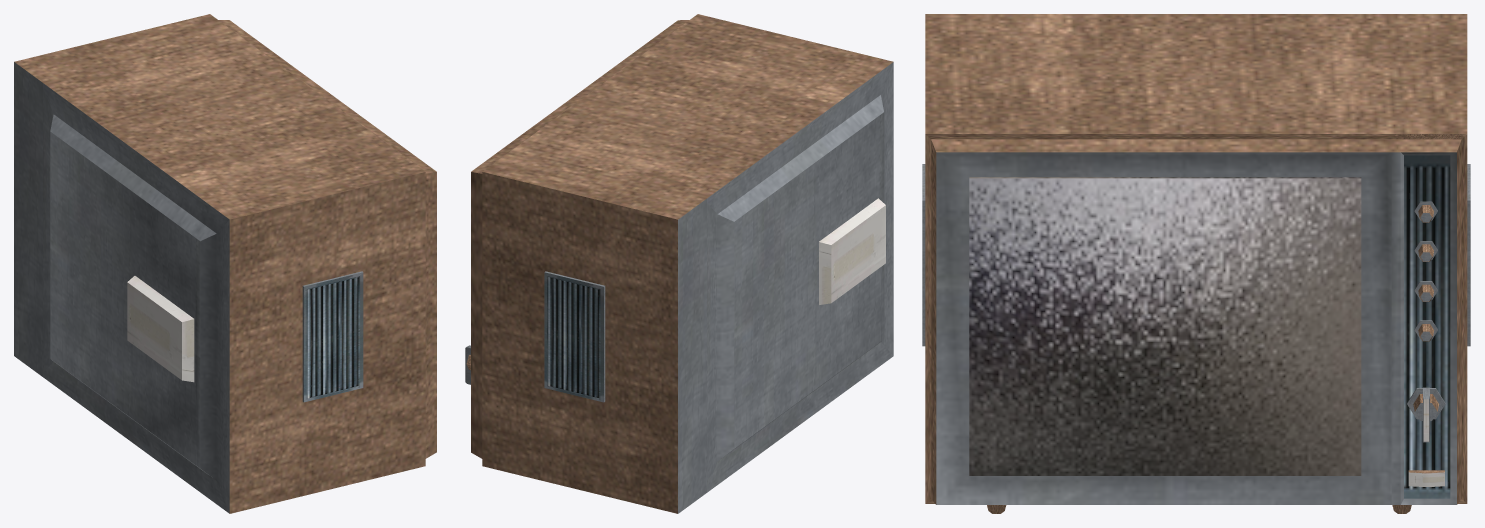
File: Television.fbx
The picture shows the model from 3 angles, left to right: view 1: azimuth 30°, elevation 25°; view 2: azimuth 150°, elevation 25°; view 3: azimuth 270°, elevation 25°; orthographic projection. The views are drawn at different scales.
Visible parts, largest first — view 1: Cylinder012; view 2: Cylinder012; view 3: Cylinder012.
Boxes of the visible parts, x1,y1,x2,y2 form: Cylinder012: [14, 14, 436, 513]; Cylinder012: [465, 14, 893, 513]; Cylinder012: [922, 14, 1470, 513].
Bounding box in the file's own units: 68.35 × 80.41 × 103.
Materials: 1 (1 with a texture image).
